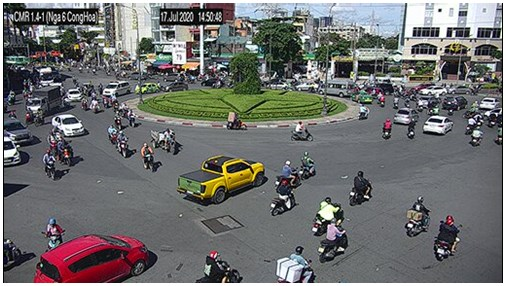xe_ban_tai: (177, 156, 265, 204)
xe_cuu_thuong: (103, 81, 131, 96)
xe_hoi: (34, 236, 149, 283), (3, 121, 35, 146), (52, 114, 83, 138), (423, 115, 453, 137), (4, 137, 21, 167), (294, 81, 320, 92), (135, 83, 160, 94), (419, 86, 447, 95), (479, 96, 498, 109), (66, 88, 83, 102), (448, 85, 471, 95), (411, 82, 436, 91), (126, 71, 147, 81), (163, 82, 189, 90), (265, 81, 290, 89), (163, 73, 185, 82)
xe_khach: (319, 81, 354, 97)
xe_may: (196, 250, 240, 283), (318, 218, 349, 264), (277, 246, 315, 283), (433, 214, 460, 262), (313, 196, 343, 235), (407, 195, 430, 240), (270, 181, 296, 216), (350, 170, 373, 207), (276, 160, 301, 192), (43, 218, 64, 249), (290, 121, 314, 142), (299, 152, 316, 181), (42, 150, 57, 182), (226, 111, 247, 131), (58, 140, 74, 166), (141, 143, 155, 171), (464, 115, 480, 136), (45, 130, 57, 156), (117, 131, 129, 157), (470, 126, 484, 148), (106, 124, 118, 146), (381, 118, 393, 140), (33, 107, 44, 126), (359, 103, 370, 120), (408, 117, 416, 140), (90, 96, 100, 114), (128, 108, 136, 129), (25, 107, 34, 125), (113, 111, 122, 129), (53, 125, 63, 141), (392, 94, 401, 110), (446, 101, 455, 116), (414, 99, 423, 112), (81, 96, 88, 111), (102, 94, 109, 109), (404, 95, 411, 109), (112, 98, 119, 111), (427, 100, 433, 115), (379, 93, 385, 106), (9, 110, 16, 120)
xe_tai: (27, 86, 62, 114)
